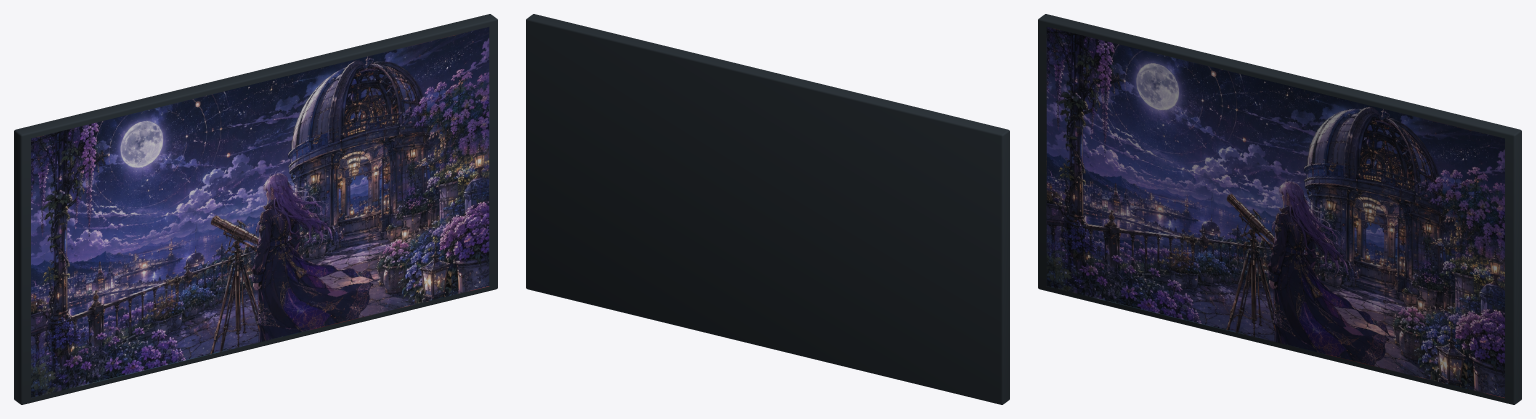
File: anime-landscape-2.glb
The picture shows the model from 3 angles, left to right: view 1: azimuth 30°, elevation 25°; view 2: azimuth 150°, elevation 25°; view 3: azimuth 330°, elevation 25°; orthographic projection.
Visible parts, largest first — view 1: anime-landscape-2; view 2: anime-landscape-2; view 3: anime-landscape-2.
Boxes of the visible parts, x1,y1,x2,y2 form: anime-landscape-2: (14,14,497,404); anime-landscape-2: (526,14,1009,404); anime-landscape-2: (1038,14,1521,404).
Bounding box in the file's own units: 1.2 × 0.65 × 0.035.
Materials: 2 (1 with a texture image).
